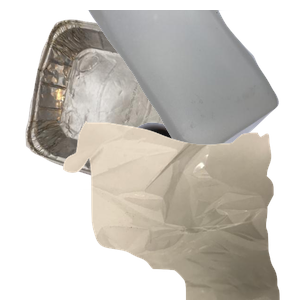glass: (115, 120, 300, 300)
metal: (23, 17, 236, 197)
plastic: (84, 10, 300, 157)
trash: (61, 120, 300, 300)
